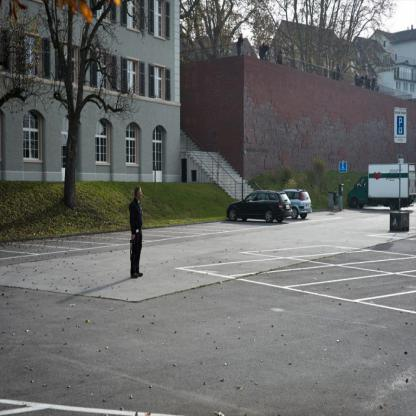Car: (225, 184, 292, 222), (280, 186, 314, 216)
Truck: (352, 152, 415, 216)
